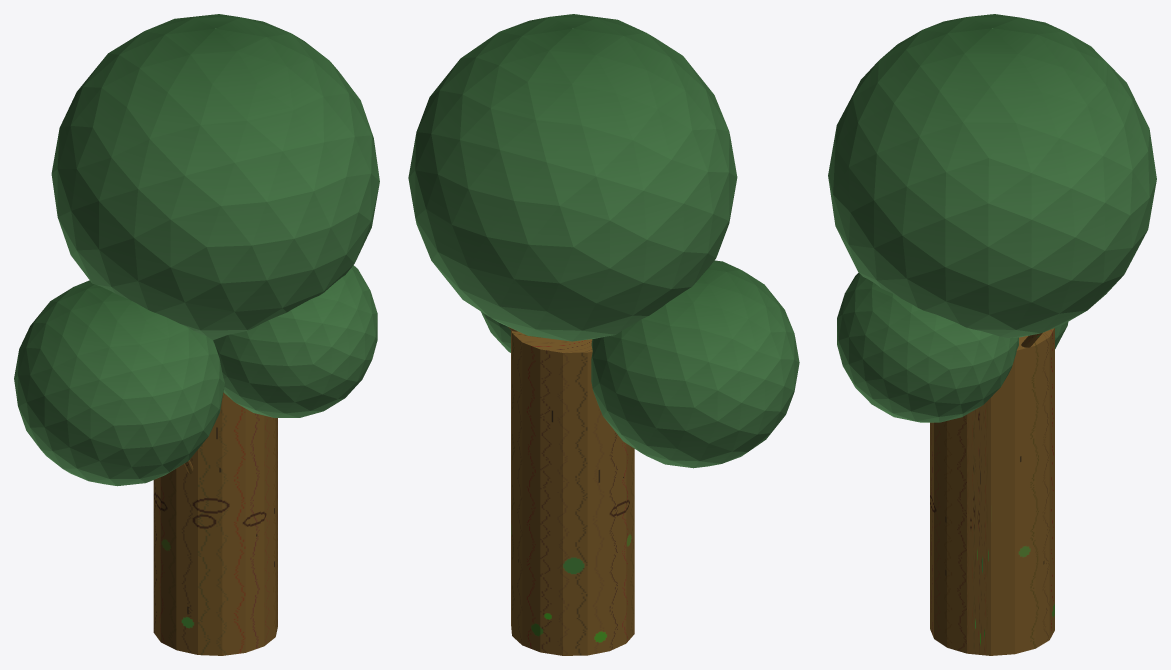
The model's file is tree_1.glb.
The picture shows the model from 3 angles, left to right: view 1: azimuth 30°, elevation 25°; view 2: azimuth 150°, elevation 25°; view 3: azimuth 270°, elevation 25°; orthographic projection.
Visible parts, largest first — view 1: tree_1_crown0, tree_1_crown1, tree_1_trunk, tree_1_crown2; view 2: tree_1_crown0, tree_1_trunk, tree_1_crown1; view 3: tree_1_crown0, tree_1_trunk, tree_1_crown2.
Part boxes in pixels (box(x1,y1,x2,y2)): tree_1_crown0: box(51, 14, 379, 340); tree_1_crown1: box(14, 280, 224, 486); tree_1_trunk: box(153, 392, 277, 655); tree_1_crown2: box(213, 265, 377, 417); tree_1_crown0: box(408, 14, 737, 341); tree_1_trunk: box(511, 330, 634, 655); tree_1_crown1: box(591, 260, 799, 468); tree_1_crown0: box(828, 14, 1156, 337); tree_1_trunk: box(930, 328, 1054, 655); tree_1_crown2: box(837, 272, 1018, 422).
Bounding box in the file's own units: 1.46 × 2.46 × 1.22.
8 materials, 8 textured.
